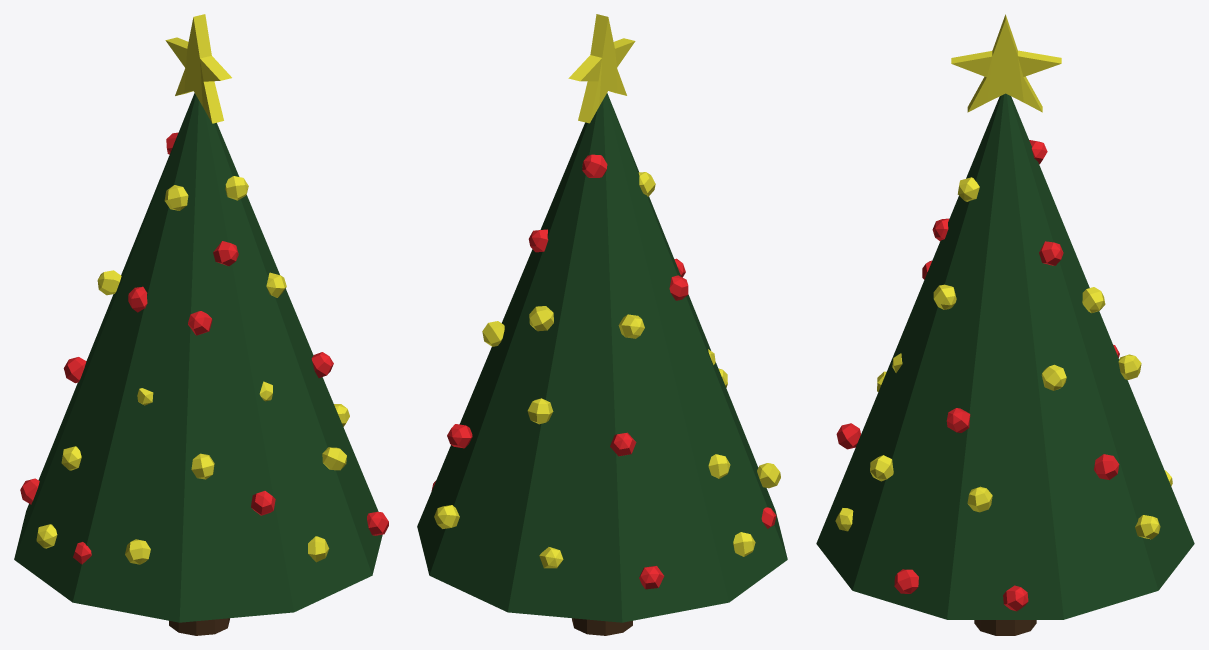
File: ChristmassTree.fbx
3 views of the same model, side by side, from view 1: azimuth 30°, elevation 25°; view 2: azimuth 150°, elevation 25°; view 3: azimuth 270°, elevation 25° (orthographic).
Parts seen in each view (by area): view 1: Cylinder; view 2: Cylinder; view 3: Cylinder.
Part boxes in pixels (left/top/right/bottom): Cylinder: left=14, top=14, right=388, bottom=635; Cylinder: left=417, top=14, right=787, bottom=635; Cylinder: left=816, top=14, right=1194, bottom=635.
Size of the model in its own units: 238 by 431 by 244.
